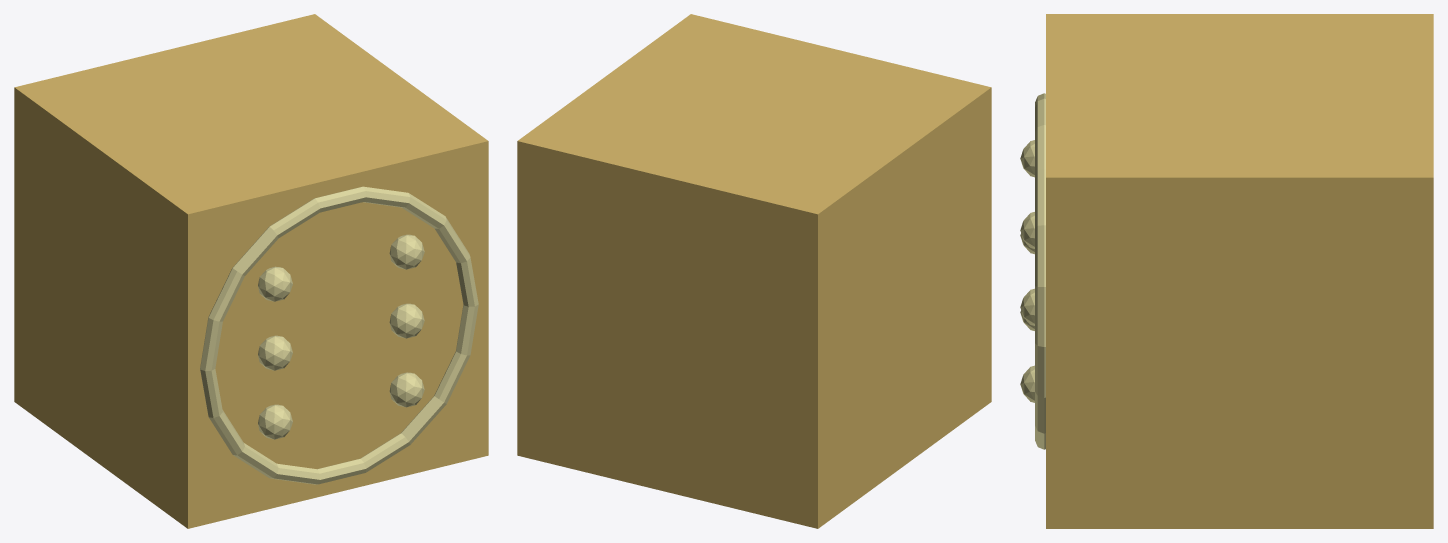
File: sonne.glb
3 views of the same model, side by side, from view 1: azimuth 30°, elevation 25°; view 2: azimuth 150°, elevation 25°; view 3: azimuth 270°, elevation 25° (orthographic). The views are drawn at different scales.
Parts seen in each view (by area): view 1: world; view 2: world; view 3: world.
Boxes of the visible parts, bbox=[...] form: world: bbox=[14, 14, 488, 528]; world: bbox=[517, 14, 991, 528]; world: bbox=[1020, 14, 1433, 528].
Bounding box in the file's own units: 1.05 × 1.05 × 1.12.
